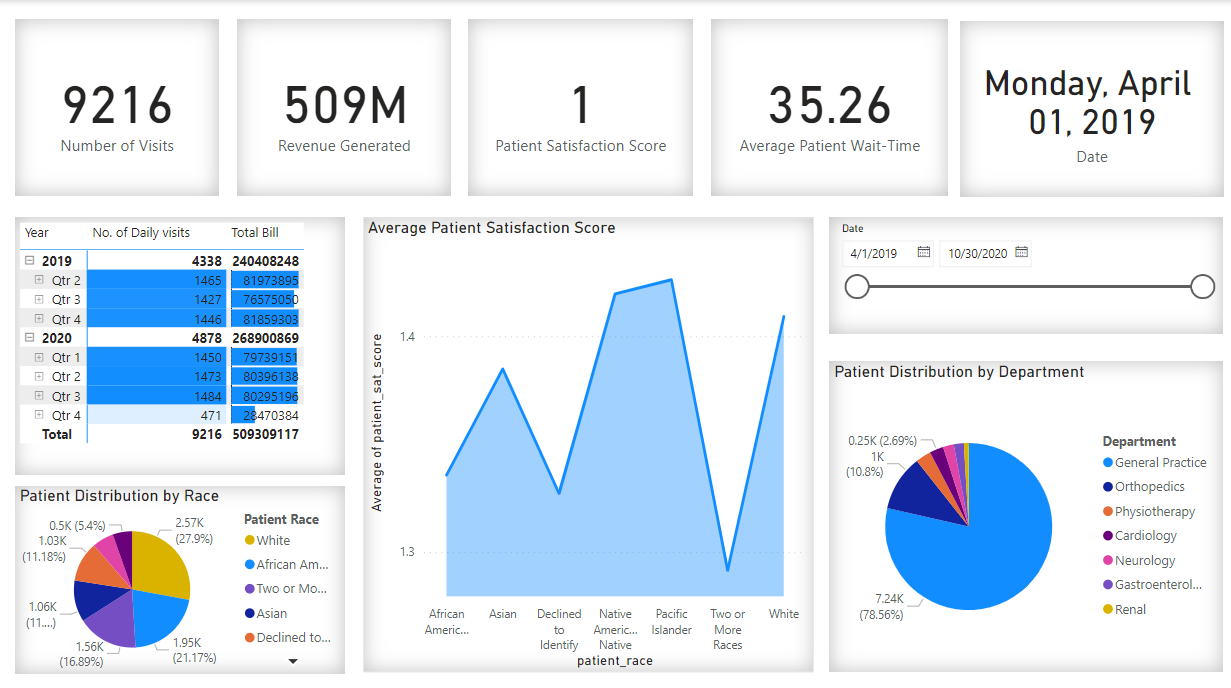

Layout of this report page (visuals, bound fields, positions):
{"tool":"powerbi","page":{"name":"Main","canvas":[1280,720],"ordinal":0},"visuals":[{"type":"card","fields":{"Values":["CountNonNull(Hospital ER.patient_id)"]},"box":[15.9,20.6,211.1,182.5],"z":0},{"type":"card","fields":{"Values":["Sum(Patient Info.Total Bill)"]},"box":[246,20.6,222.2,182.5],"z":1000},{"type":"card","fields":{"Values":["Avg(Hospital ER.patient_sat_score)"]},"box":[485.7,20.6,233.3,182.5],"z":2000},{"type":"card","fields":{"Values":["Avg(Hospital ER.patient_waittime)"]},"box":[736.5,20.6,246,182.5],"z":3000},{"type":"pivotTable","fields":{"Values":["CountNonNull(Hospital ER.patient_id)","Sum(Patient Info.Total Bill)"],"Rows":["Hospital ER.date.Variation.Date Hierarchy.Year","Hospital ER.date.Variation.Date Hierarchy.Quarter","Hospital ER.date.Variation.Date Hierarchy.Month","Hospital ER.date.Variation.Date Hierarchy.Day"]},"box":[15.6,225.5,342.1,267.5],"z":4000},{"type":"pieChart","title":"Patient Distribution by Department","fields":{"Category":["Hospital ER.department_referral"],"Y":["CountNonNull(Hospital ER.patient_id)"]},"box":[860.3,374.6,407.9,322.2],"z":5000},{"type":"slicer","fields":{"Values":["Hospital ER.date"]},"box":[860.3,225.4,407.9,120.6],"z":6000},{"type":"areaChart","title":"Average Patient Satisfaction Score","fields":{"Category":["Hospital ER.patient_race","Hospital ER.patient_age (groups)"],"Y":["Avg(Hospital ER.patient_sat_score)"]},"box":[376.2,225.4,468.3,471.4],"z":7000},{"type":"card","fields":{"Values":["Min(Hospital ER.date)"]},"box":[995,21.7,273.3,181.7],"z":8000},{"type":"pieChart","title":"Patient Distribution by Race","fields":{"Y":["CountNonNull(Hospital ER.patient_id)"],"Category":["Hospital ER.patient_race"]},"box":[15.6,503.8,342.1,194.4],"z":8001}]}

Visuals, with their boxes in screenshot pixels (x1, y1, x2, y2), scaled from the page's 1280x720 canvas onto the 1231x688 screenshot:
card - CountNonNull(Hospital ER.patient_id): crop(15, 20, 218, 194)
card - Sum(Patient Info.Total Bill): crop(237, 20, 450, 194)
card - Avg(Hospital ER.patient_sat_score): crop(467, 20, 691, 194)
card - Avg(Hospital ER.patient_waittime): crop(708, 20, 945, 194)
pivotTable - CountNonNull(Hospital ER.patient_id) x Sum(Patient Info.Total Bill): crop(15, 215, 344, 471)
"Patient Distribution by Department" pieChart: crop(827, 358, 1220, 666)
slicer - Hospital ER.date: crop(827, 215, 1220, 331)
"Average Patient Satisfaction Score" areaChart: crop(362, 215, 812, 666)
card - Min(Hospital ER.date): crop(957, 21, 1220, 194)
"Patient Distribution by Race" pieChart: crop(15, 481, 344, 667)
